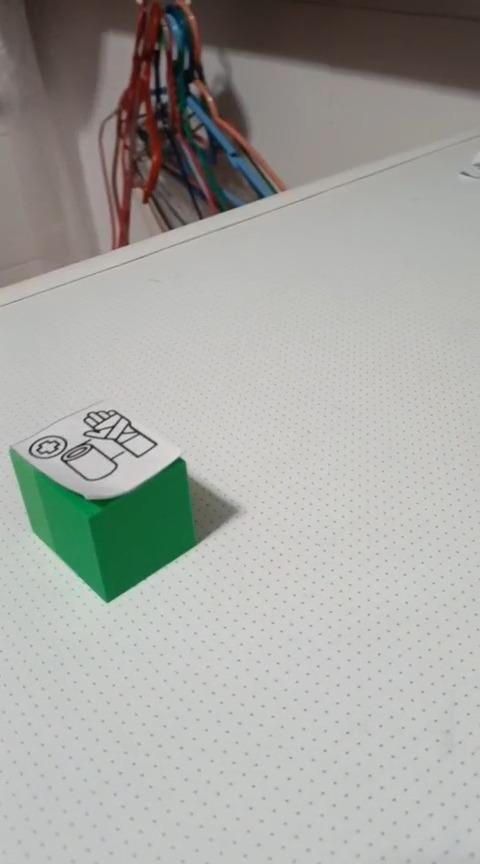Bandages: (8, 399, 198, 603)
